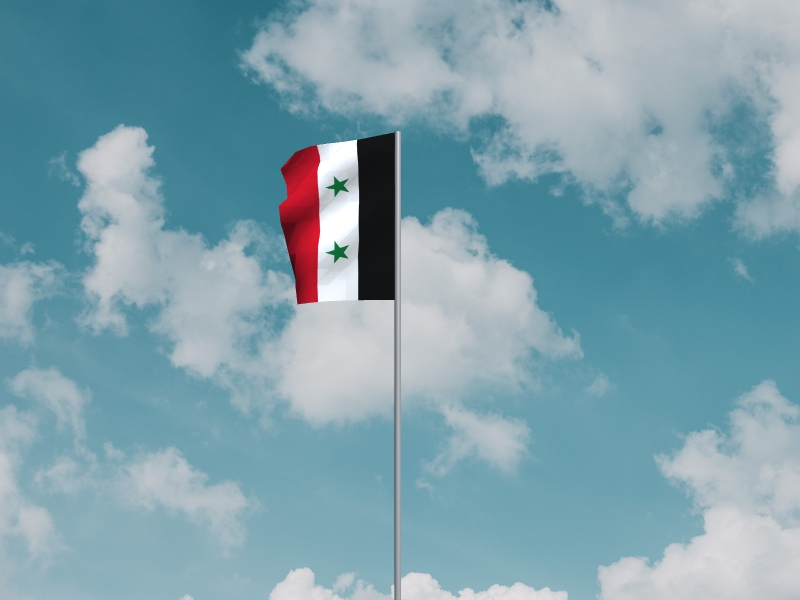sy: (280, 132, 395, 306)
